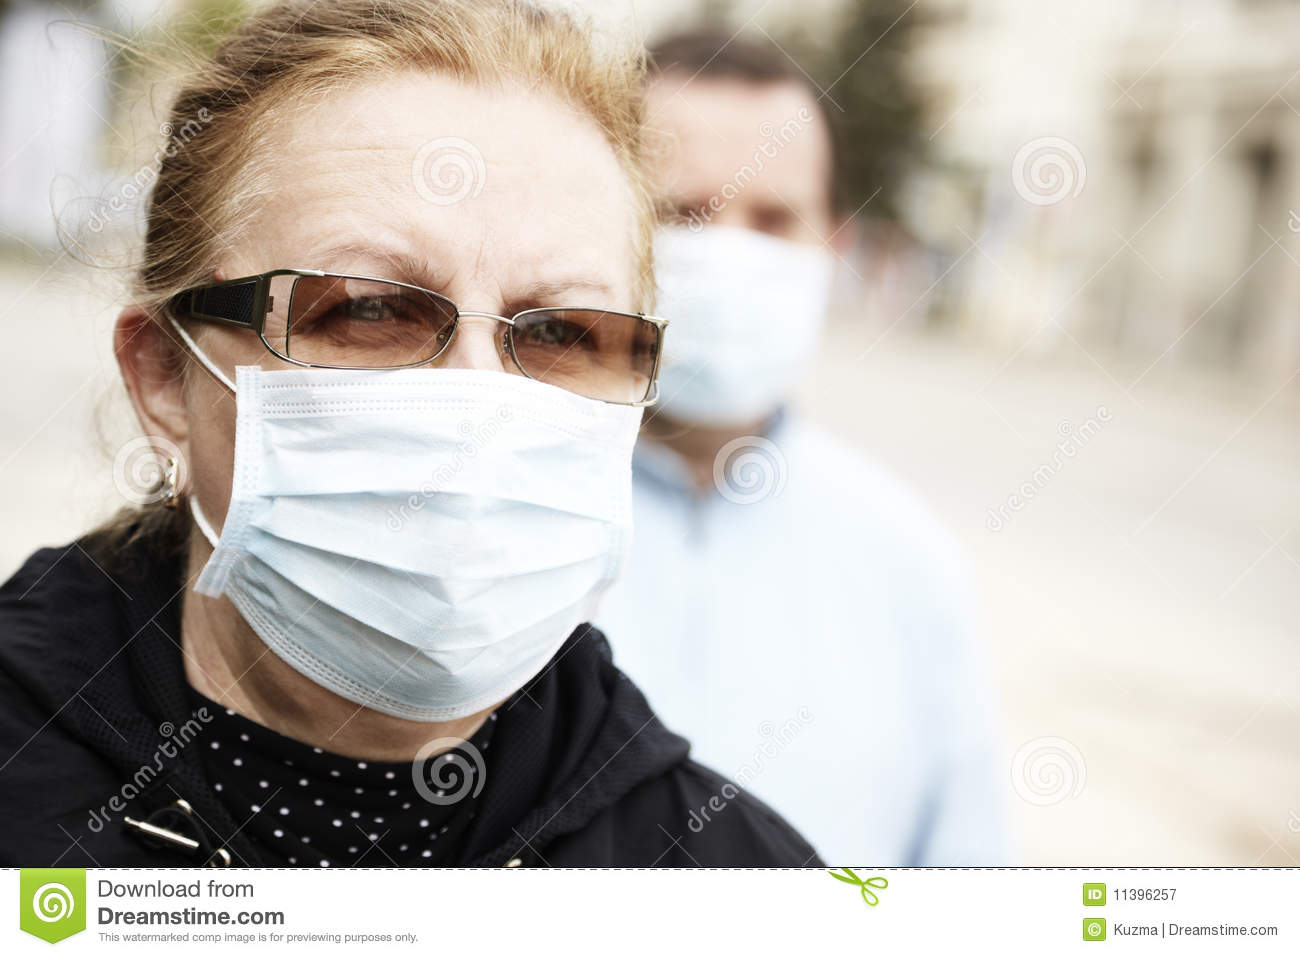mask: (200, 368, 644, 727)
